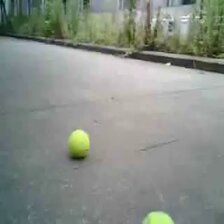tennis: (67, 130, 90, 158)
